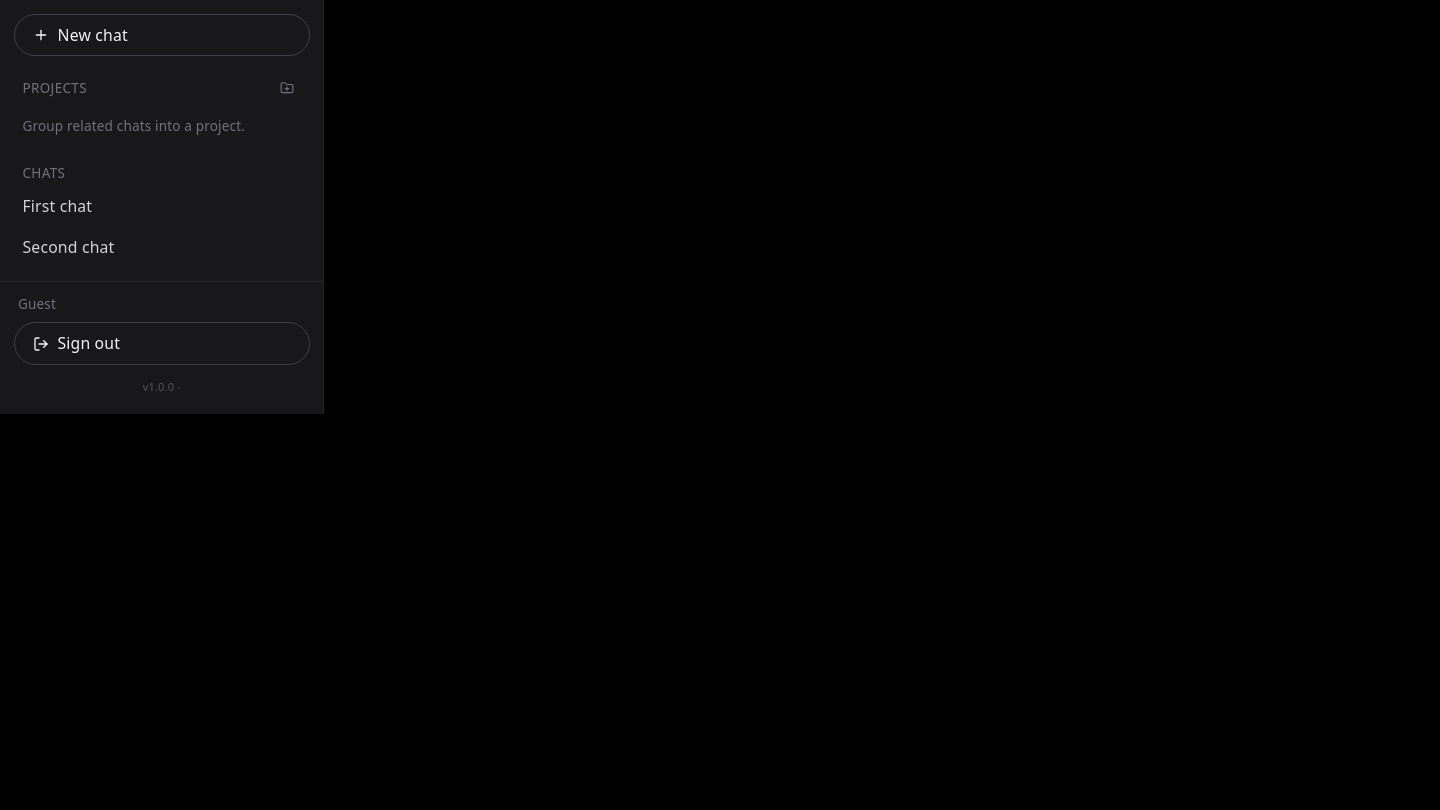
Scenario: ChatSidebar › names a project before creating it
Click the button named "New project" at (287, 88), box [274,74,300,101]
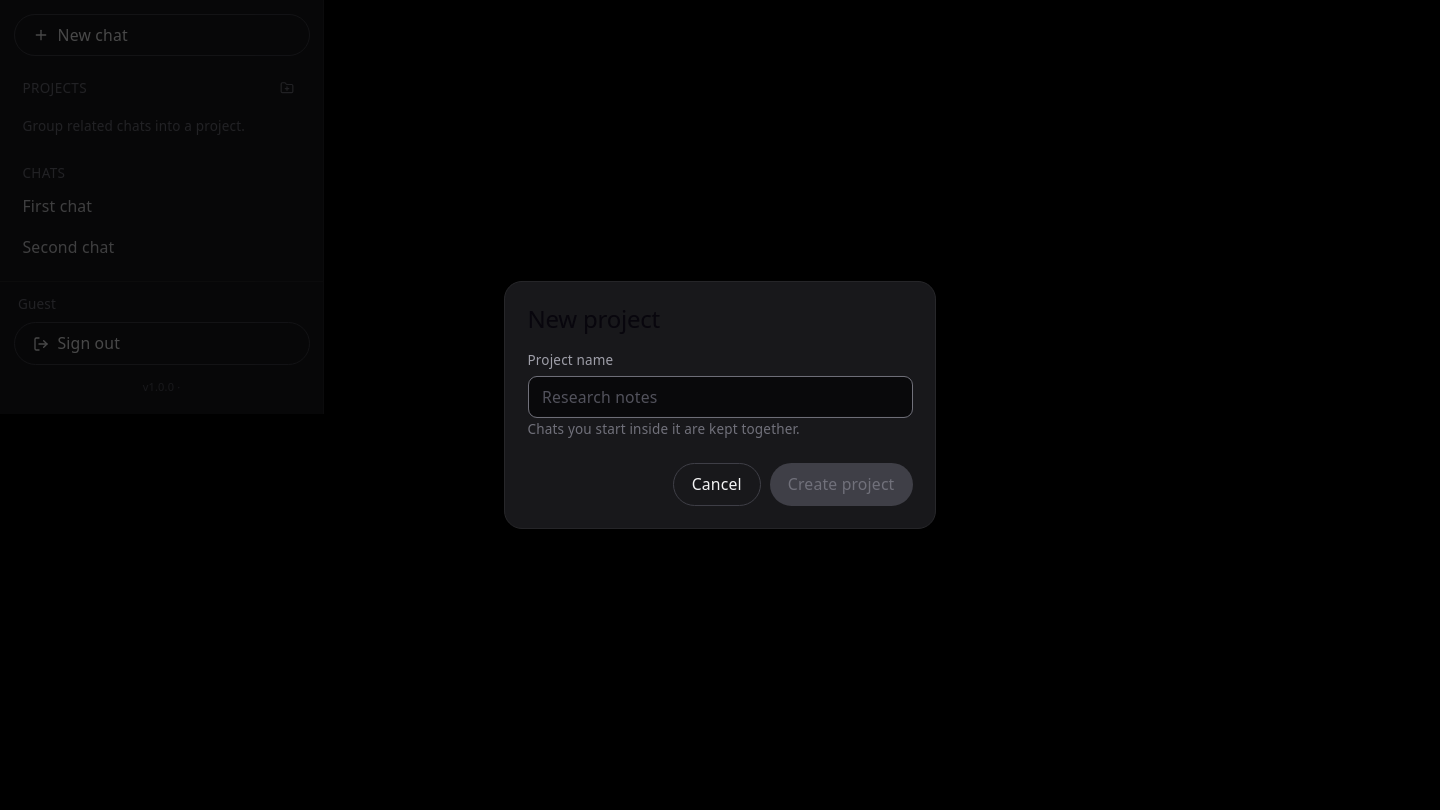
Type "Research" into the field labelled "Project name" at (720, 397), box [528,376,912,418]
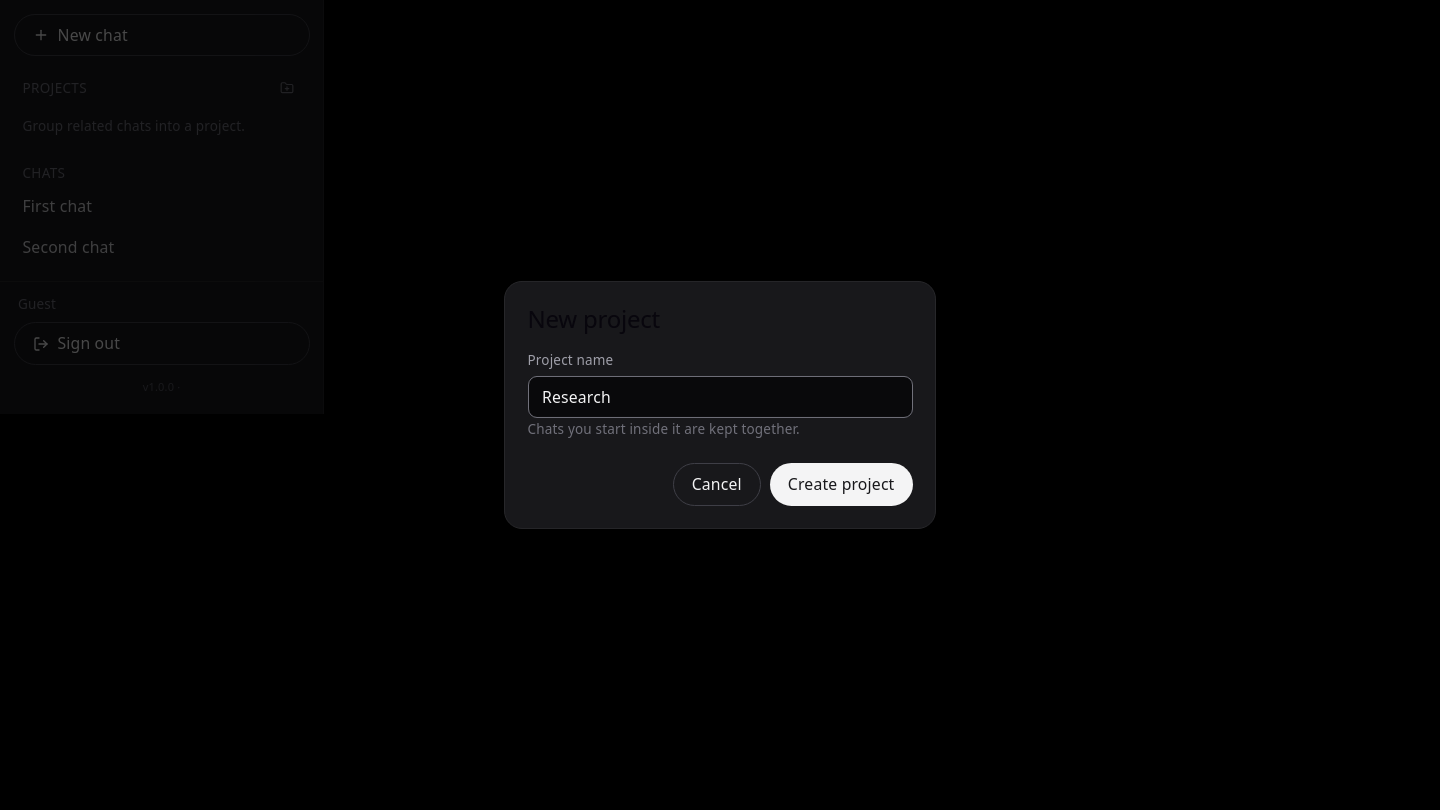
Click the button "Create project" at (841, 484), box [770,463,912,506]
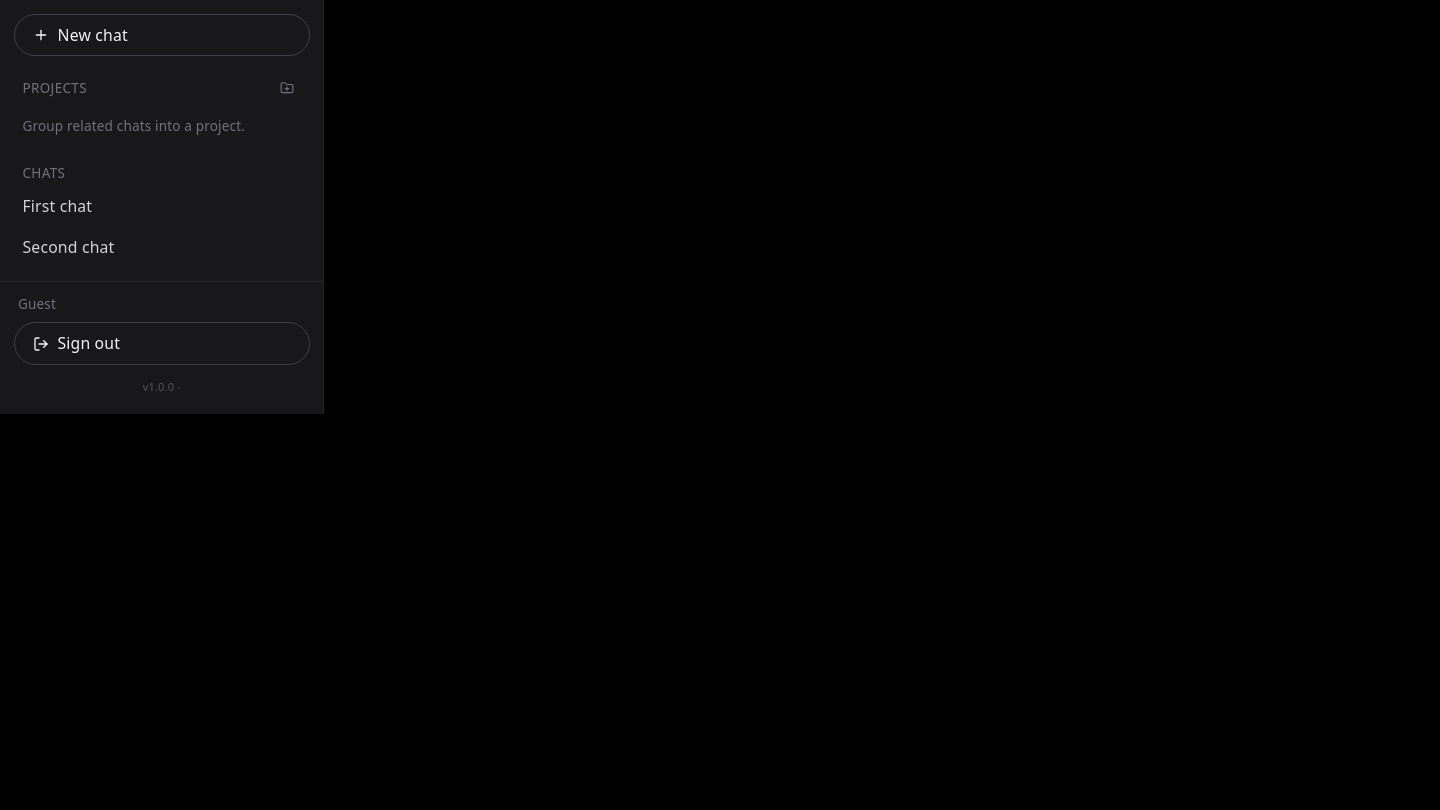
expect the dialog is gone: met
